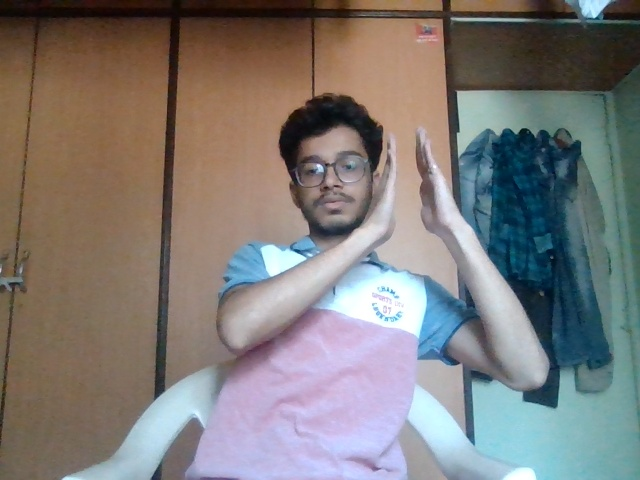morning: (363, 121, 479, 261)
